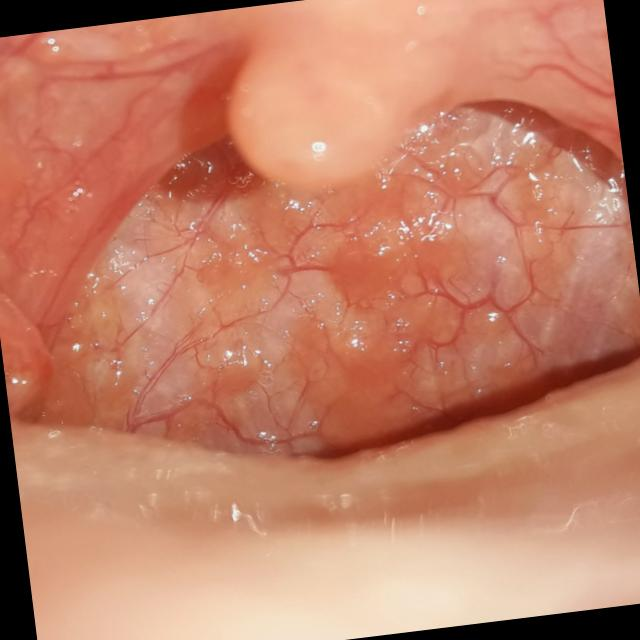Non Pharyngitis: (326, 66, 640, 375), (0, 153, 297, 465)
